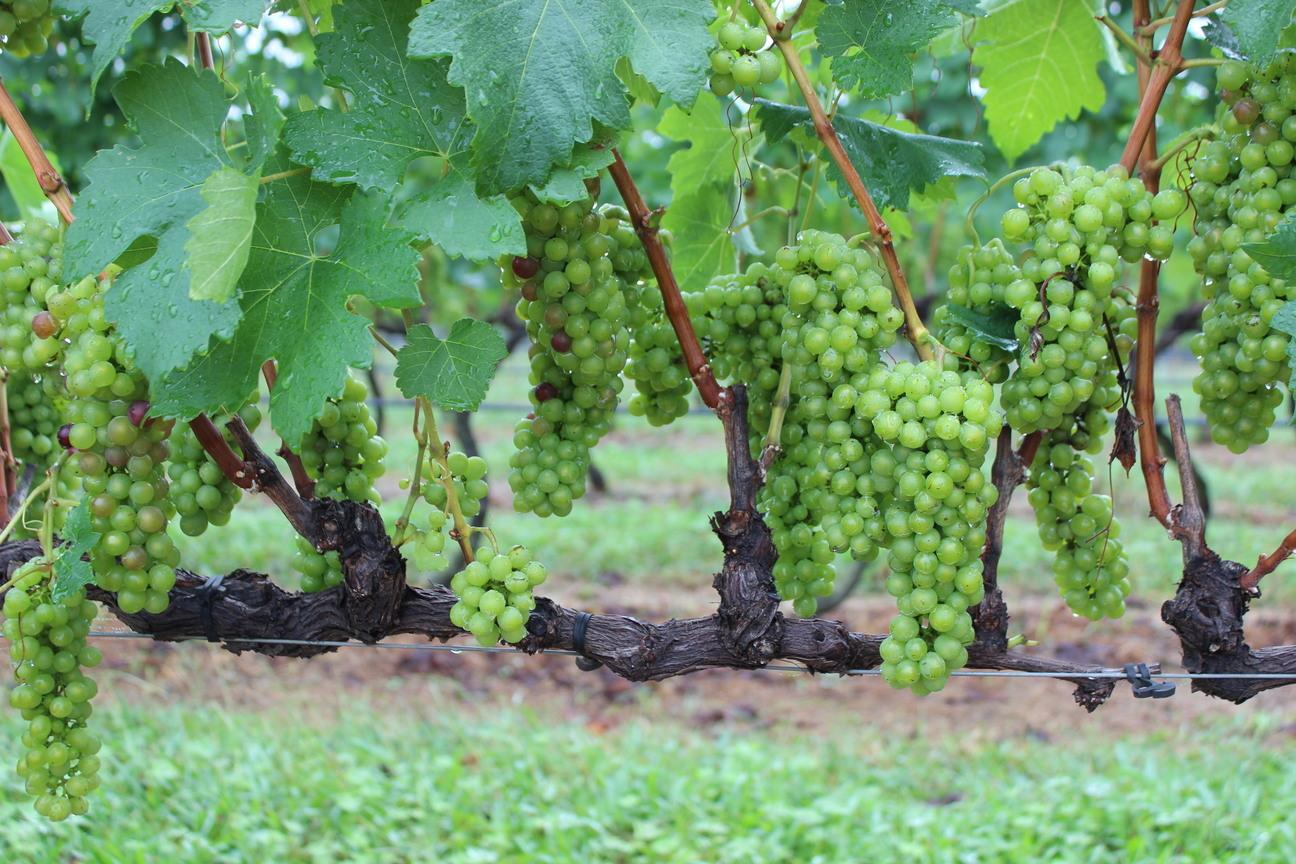leaf: (154, 175, 421, 441), (284, 0, 523, 257), (409, 0, 712, 193), (64, 59, 238, 379), (972, 0, 1104, 160), (54, 0, 266, 89), (834, 114, 984, 209), (816, 0, 953, 97), (394, 318, 506, 410), (656, 95, 756, 194), (185, 167, 255, 302), (661, 183, 735, 290), (51, 495, 99, 602), (1219, 0, 1295, 63), (1241, 214, 1295, 280), (947, 303, 1019, 352), (755, 98, 811, 140), (1271, 301, 1295, 336), (828, 164, 852, 198), (1288, 337, 1295, 390), (268, 156, 290, 170), (1293, 418, 1294, 421)
